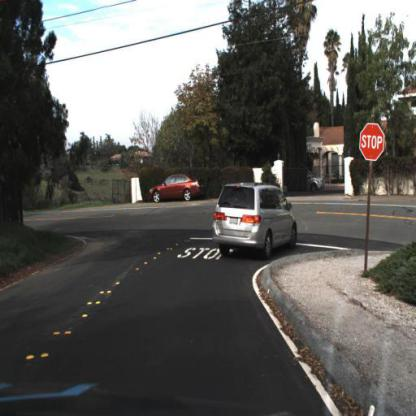car: (212, 181, 299, 263), (147, 172, 204, 204), (307, 173, 327, 194)
